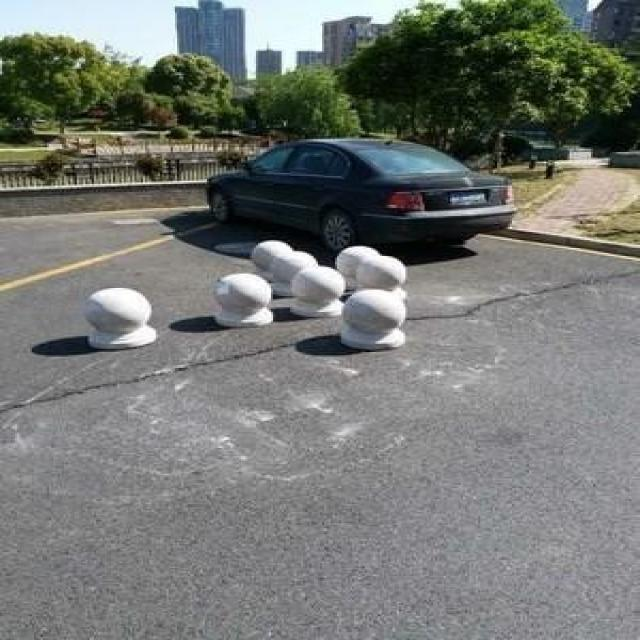car: (201, 134, 516, 252)
spherical_roadblock: (85, 284, 158, 346), (335, 285, 407, 347), (213, 270, 271, 328), (286, 266, 343, 315), (354, 252, 408, 298), (266, 248, 314, 296)
